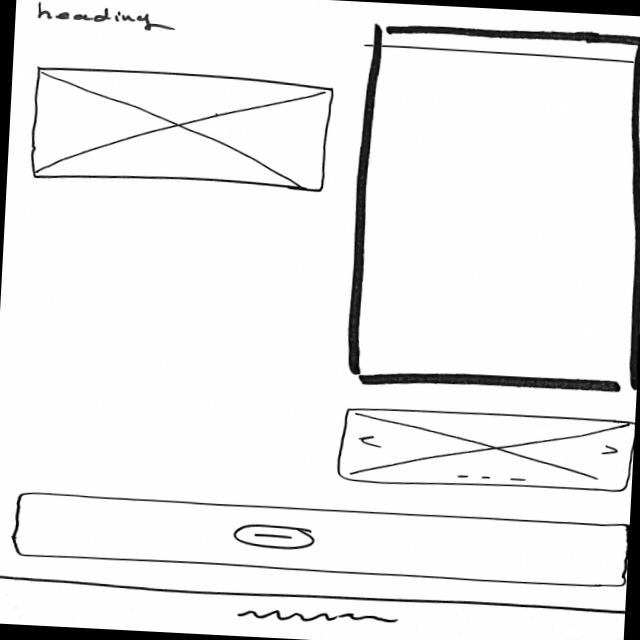container: (343, 18, 640, 399), (11, 489, 630, 594), (0, 574, 625, 640)
icon-button: (232, 524, 317, 552)
image: (29, 64, 338, 194), (334, 405, 635, 496)
label: (29, 2, 172, 33)
text: (228, 604, 402, 628)
